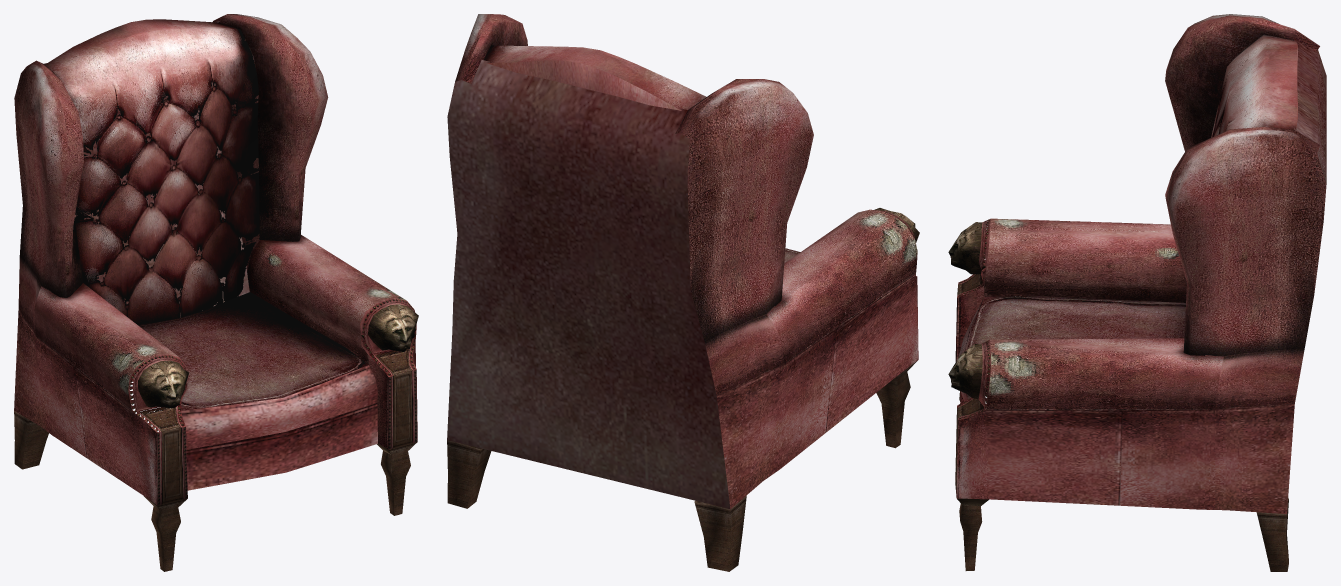
Rendered from chair1.dae.
3 views of the same model, side by side, from view 1: azimuth 30°, elevation 25°; view 2: azimuth 150°, elevation 25°; view 3: azimuth 270°, elevation 25° (orthographic). The views are drawn at different scales.
Visible parts, largest first — view 1: armchair; view 2: armchair; view 3: armchair.
Boxes of the visible parts, x1=… form: armchair: x1=14, y1=14, x2=418, y2=571; armchair: x1=447, y1=14, x2=919, y2=571; armchair: x1=948, y1=14, x2=1326, y2=571.
Size of the model in its own units: 4.41 by 4.6 by 5.97.
Materials: 9 (9 with a texture image).
